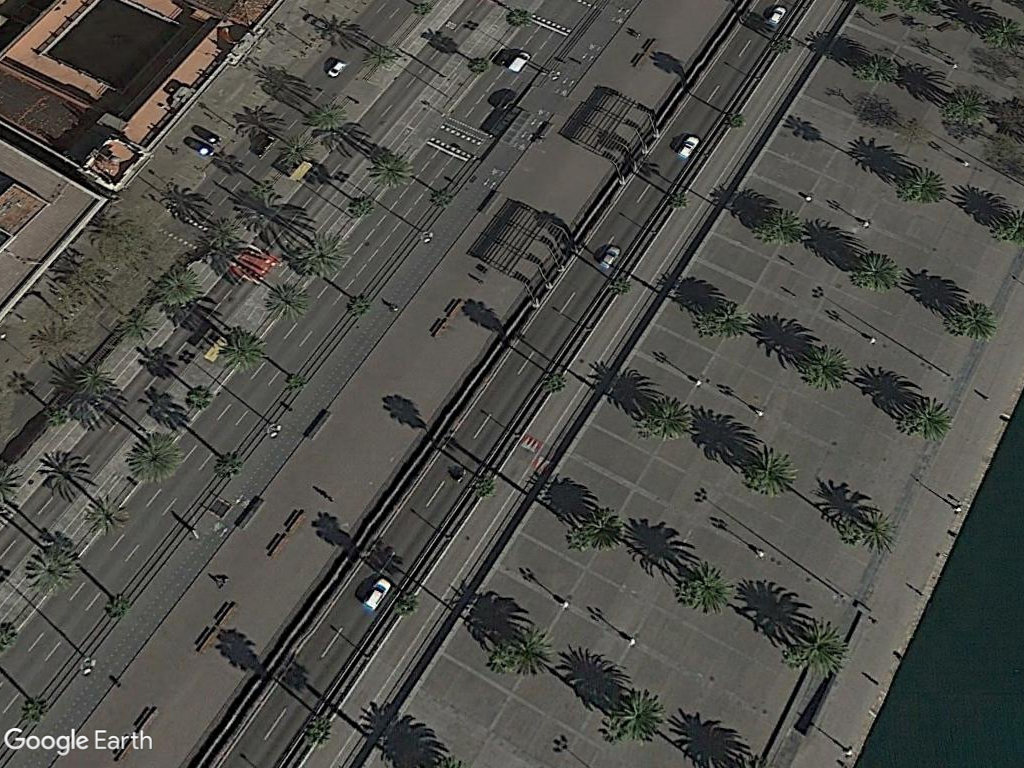car: (595, 241, 624, 273), (320, 58, 348, 80)
van: (501, 48, 533, 78)
